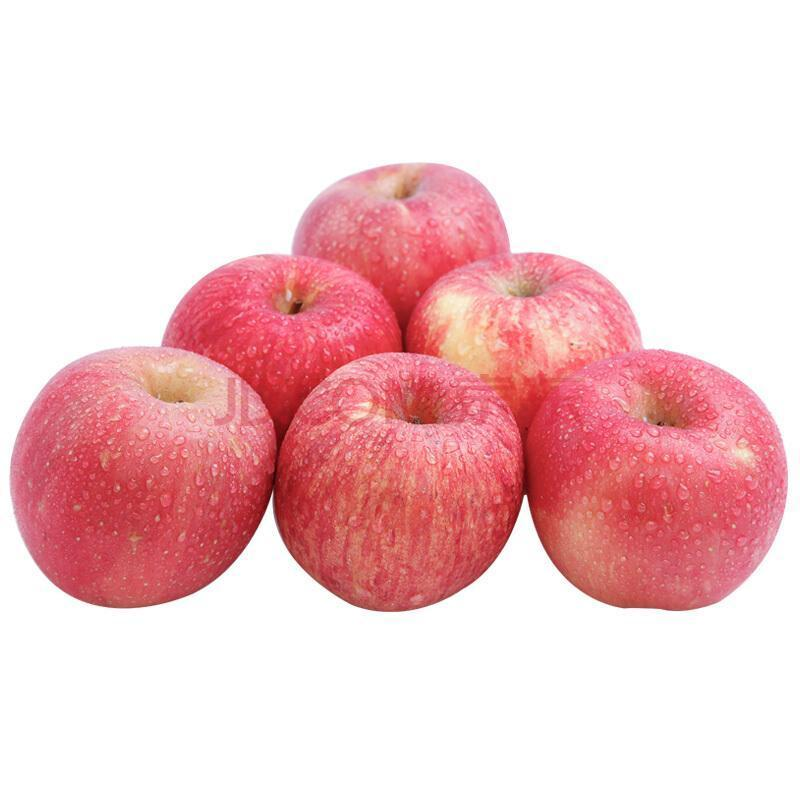apple: (7, 342, 274, 611), (525, 347, 788, 613), (278, 351, 534, 607), (155, 248, 399, 429), (406, 253, 642, 418), (287, 159, 510, 328)
